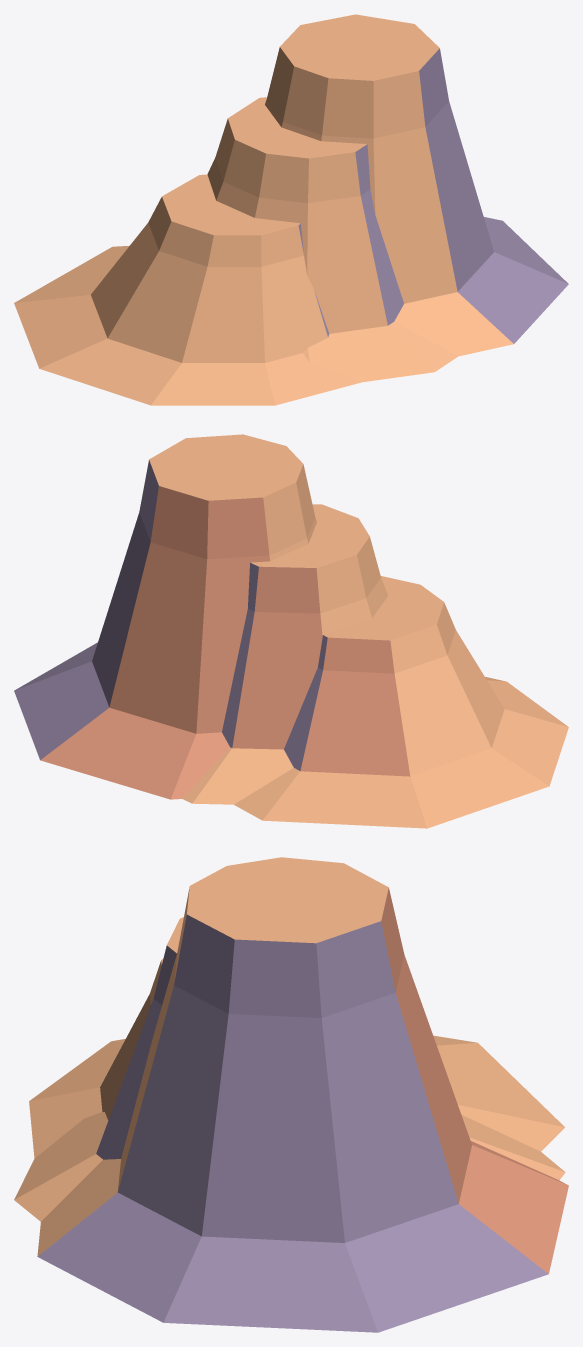
Rendered from mesa.glb.
3 views of the same model, one above another, from view 1: azimuth 30°, elevation 25°; view 2: azimuth 150°, elevation 25°; view 3: azimuth 270°, elevation 25° (orthographic). The views are drawn at different scales.
Parts seen in each view (by area): view 1: mesa_0, mesa_2, mesa_1; view 2: mesa_2, mesa_0, mesa_1; view 3: mesa_2, mesa_0, mesa_1.
Boxes of the visible parts, x1,y1,x2,y2 form: mesa_0: [14, 174, 361, 405]; mesa_2: [265, 14, 568, 356]; mesa_1: [207, 97, 457, 382]; mesa_2: [14, 434, 316, 799]; mesa_0: [234, 576, 568, 828]; mesa_1: [182, 504, 387, 804]; mesa_2: [37, 857, 568, 1332]; mesa_0: [29, 959, 564, 1158]; mesa_1: [14, 917, 565, 1221].
Size of the model in its own units: 12.57 by 5.8 by 9.18.
